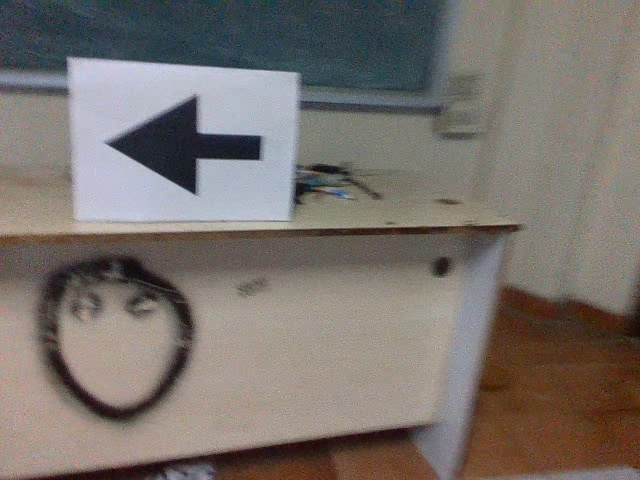Left: (97, 85, 268, 200)
